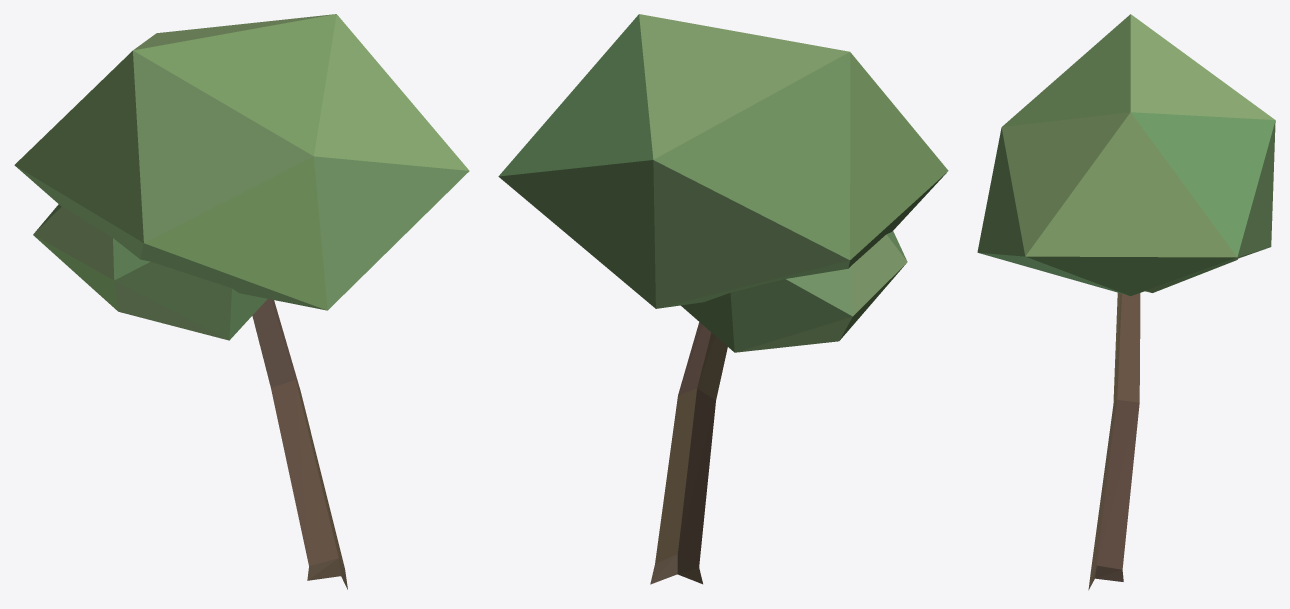
File: Tree_Broadleaf_03_Far.glb
3 views of the same model, side by side, from view 1: azimuth 30°, elevation 25°; view 2: azimuth 150°, elevation 25°; view 3: azimuth 270°, elevation 25° (orthographic). The views are drawn at different scales.
Visible parts, largest first — view 1: Tree_Broadleaf_03_Far; view 2: Tree_Broadleaf_03_Far; view 3: Tree_Broadleaf_03_Far.
Part boxes in pixels (x1,y1,x2,y2): Tree_Broadleaf_03_Far: (14,14,469,589); Tree_Broadleaf_03_Far: (498,14,948,584); Tree_Broadleaf_03_Far: (977,14,1275,590).
Bounding box in the file's own units: 5.85 × 9.42 × 5.14.
